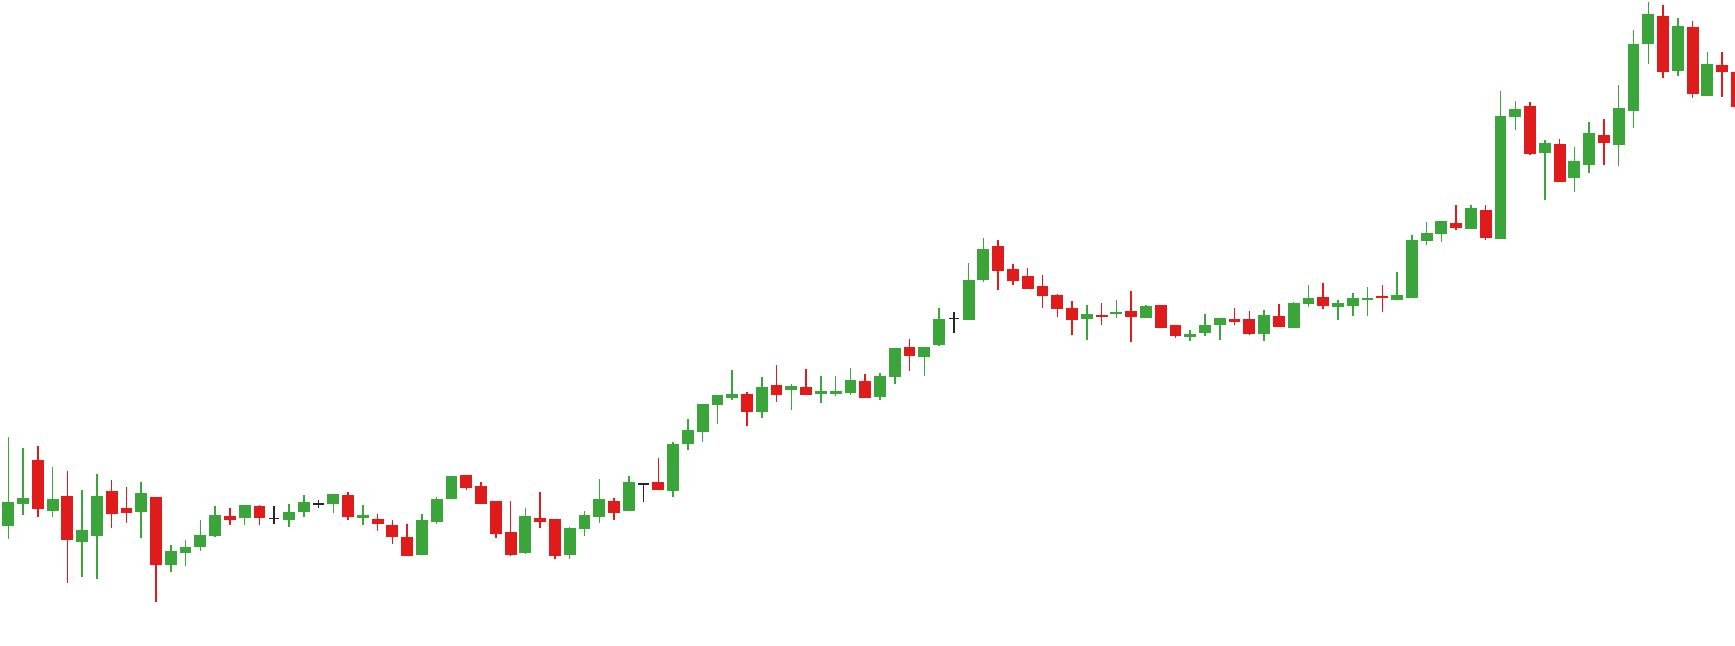buy: (76, 506, 181, 608), (396, 493, 534, 561)
